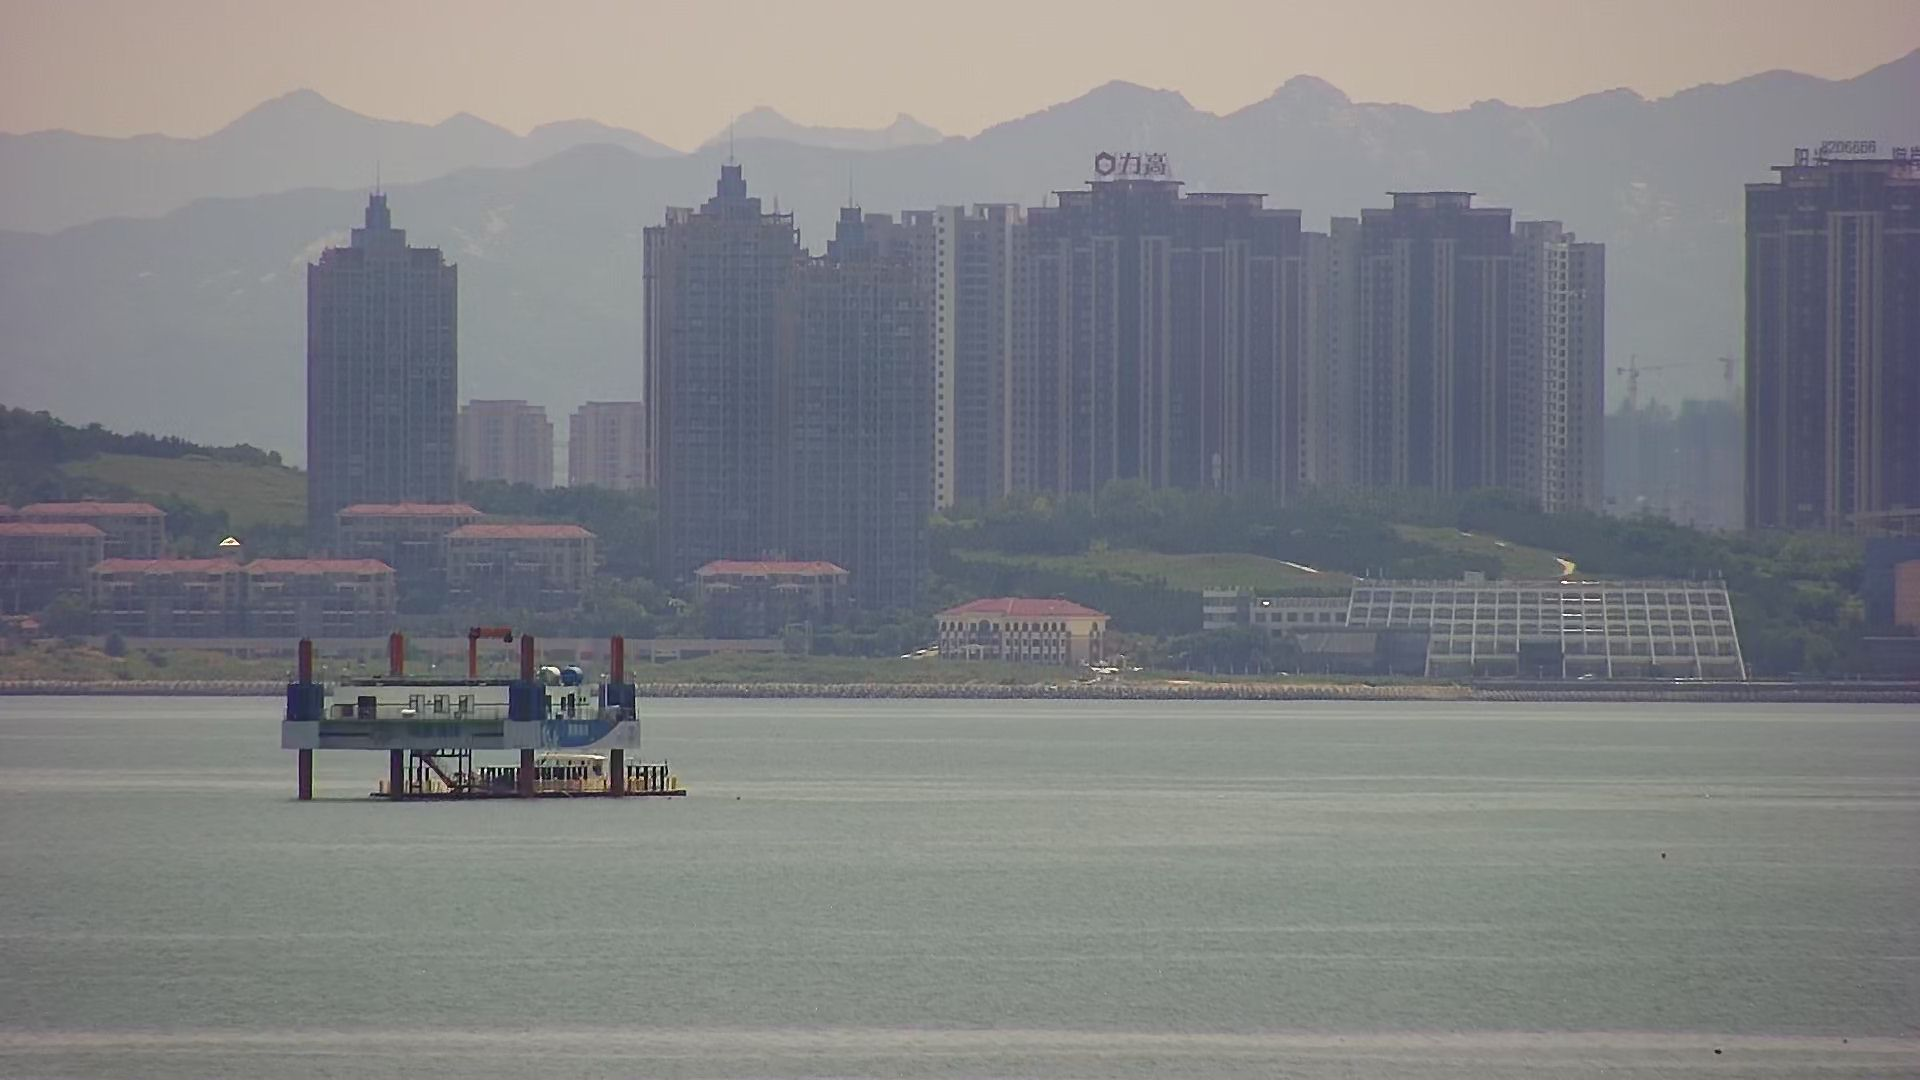platform: (278, 626, 691, 808)
